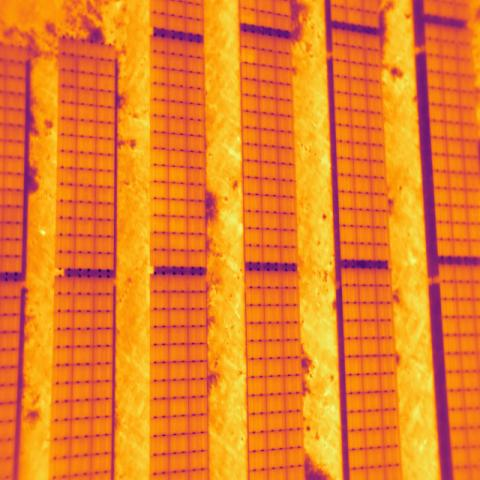fault: (240, 47, 258, 66)
